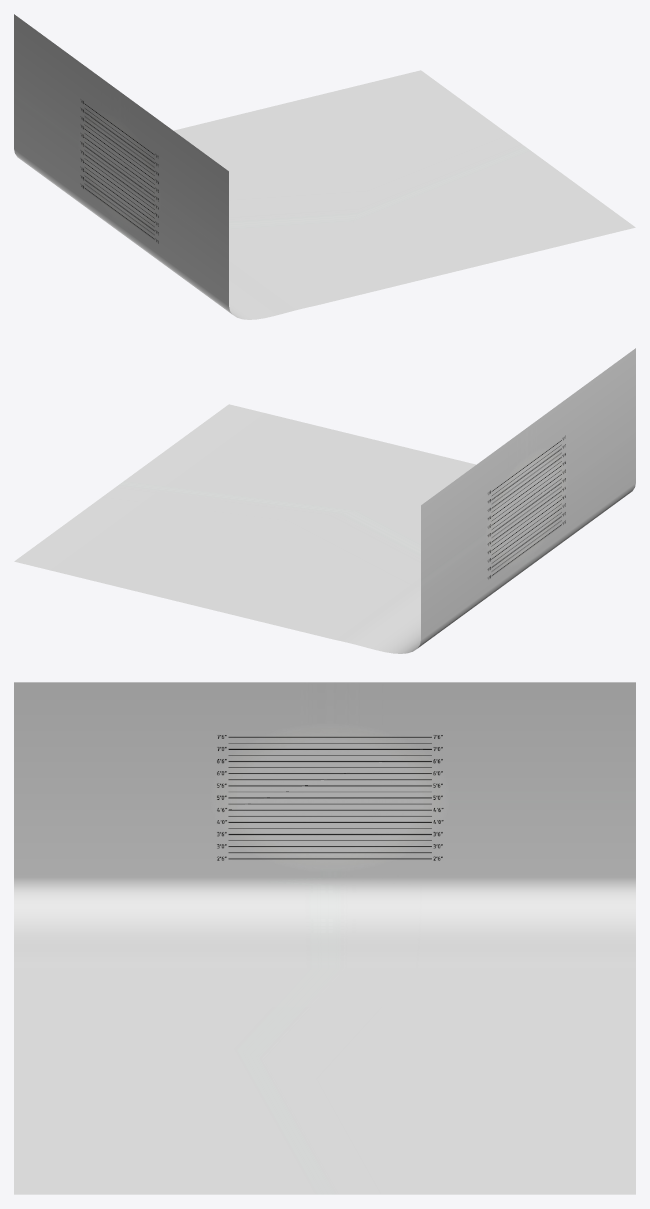
File: main_menu_bg.glb
The picture shows the model from 3 angles, top to bottom: view 1: azimuth 30°, elevation 25°; view 2: azimuth 150°, elevation 25°; view 3: azimuth 270°, elevation 25°; orthographic projection. The views are drawn at different scales.
Parts seen in each view (by area): view 1: Plane; view 2: Plane; view 3: Plane.
Part boxes in pixels (x1,y1,x2,y2): Plane: (14,14,635,319); Plane: (14,348,635,653); Plane: (14,682,635,1194).
Bounding box in the file's own units: 4.78 × 1.75 × 4.37.
Materials: 1 (1 with a texture image).
